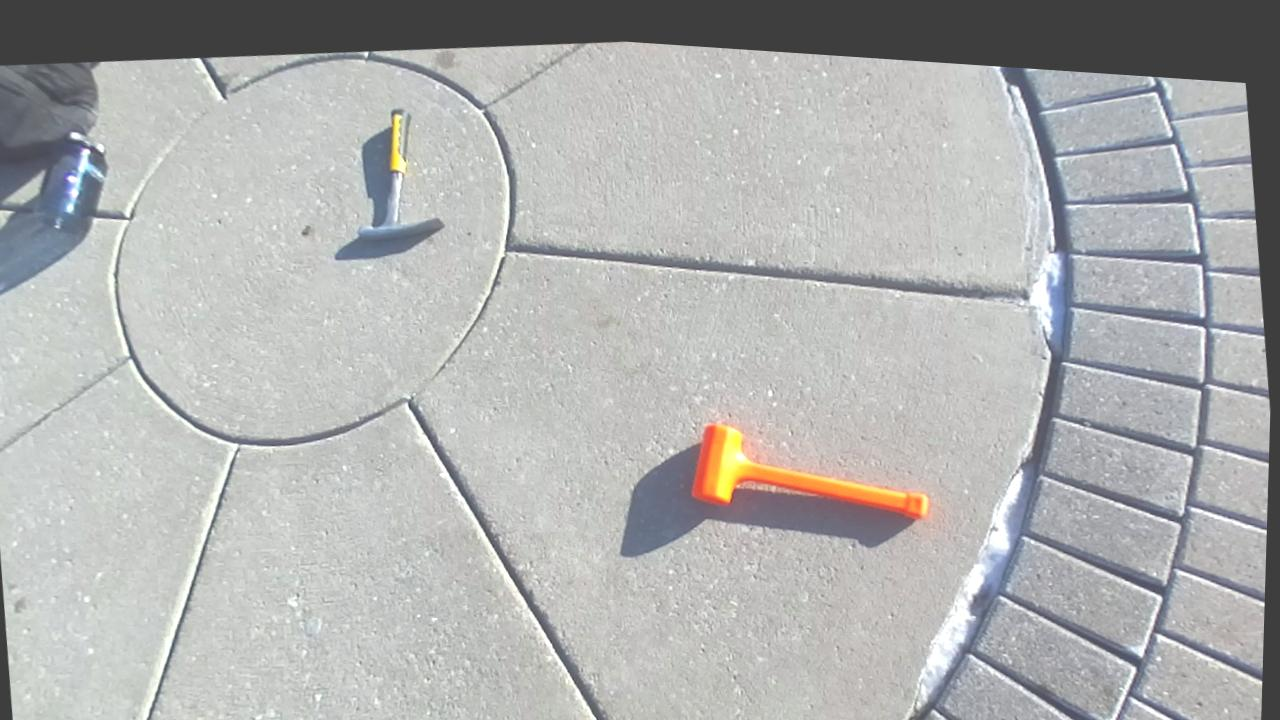bottle: (37, 133, 107, 231)
mallet: (692, 425, 928, 518)
pick: (358, 108, 443, 239)
